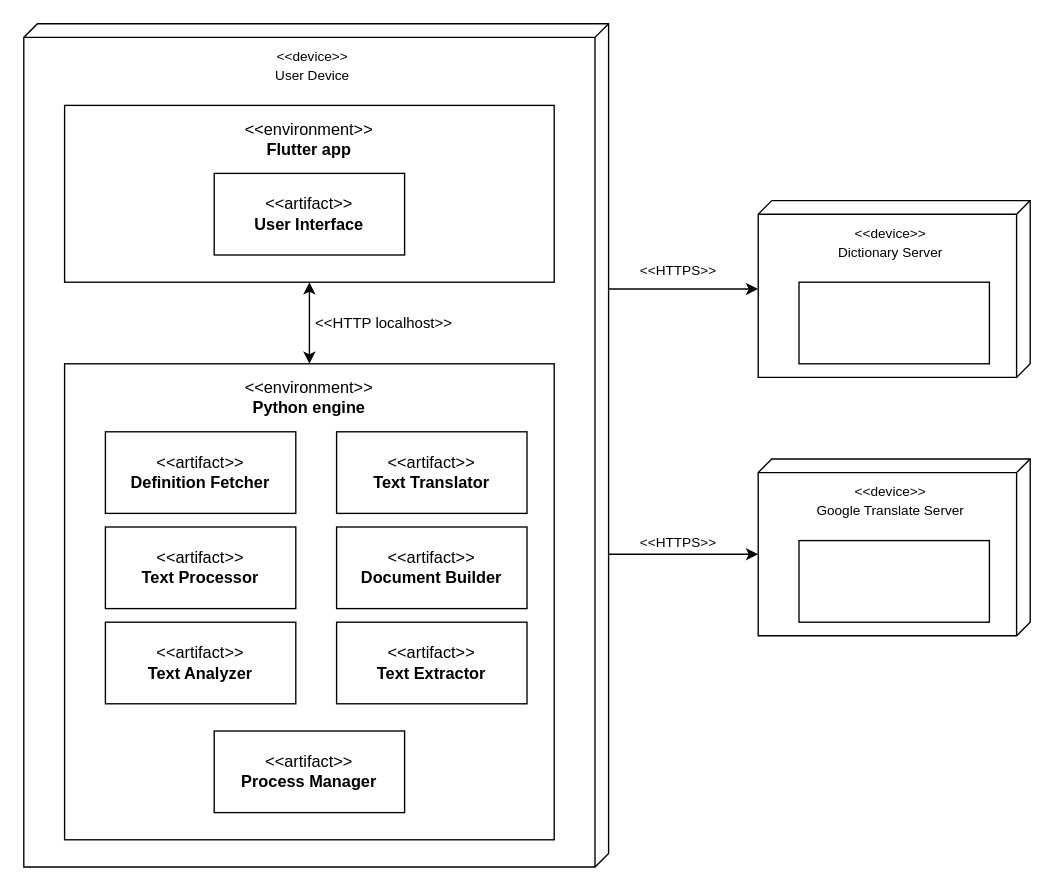
This 1054x891 diagram has some shape labels left out. Here are the shapes that lost their labels. From the top down, the centre of each, then its label:
At (893,322): "<<artifact>> Free Dictionary API".
At (893,580): "<<artifact>> Google Translate API".
